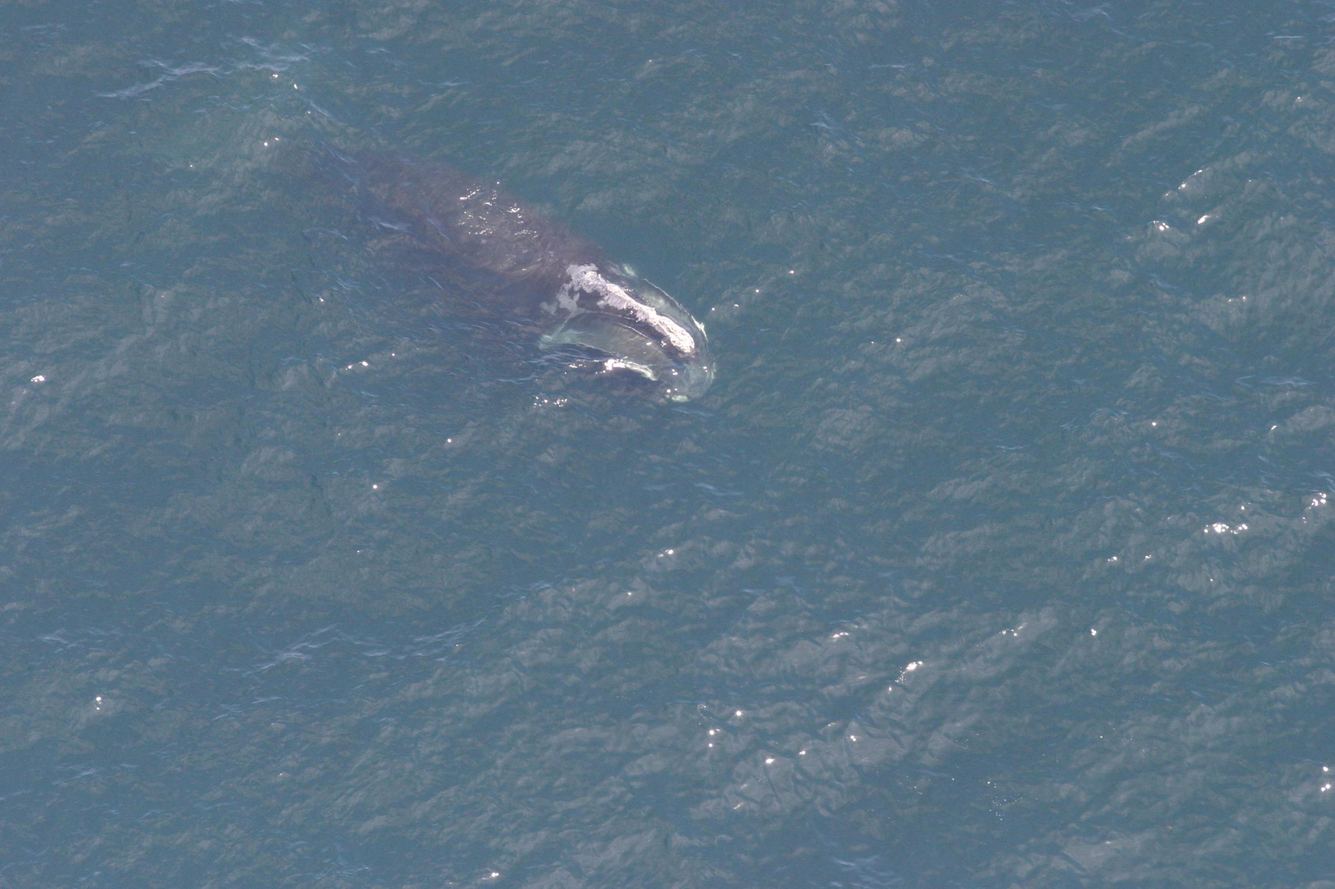whale: (222, 121, 721, 414)
